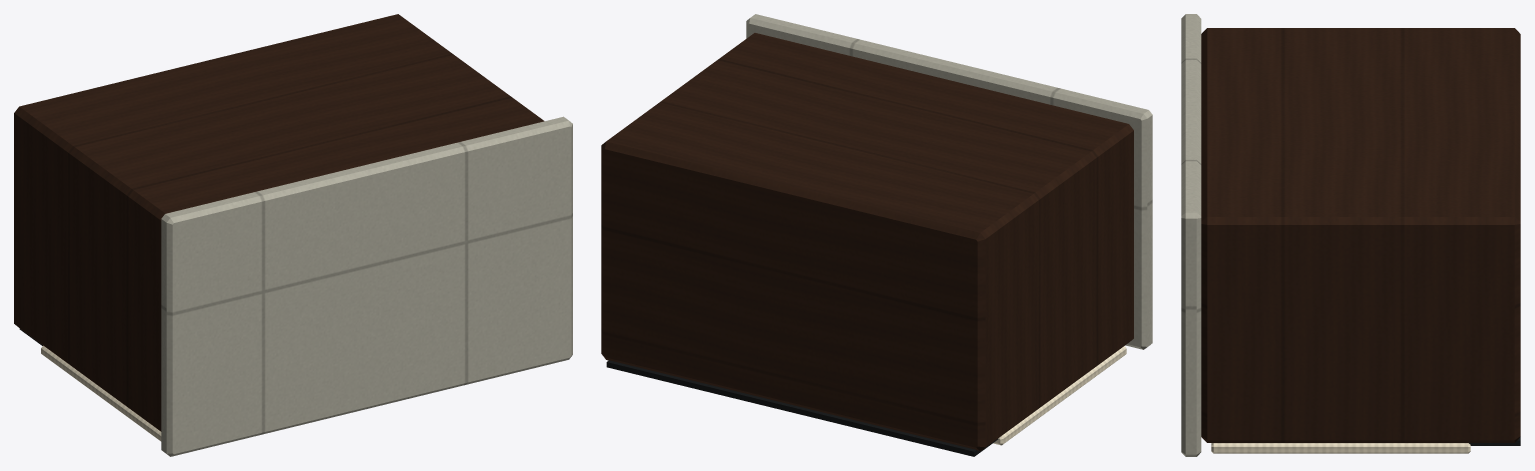
The model's file is master_bath_vanity.obj.
3 renders of one model, left to right at view 1: azimuth 30°, elevation 25°; view 2: azimuth 150°, elevation 25°; view 3: azimuth 270°, elevation 25°, orthographic. The views are drawn at different scales.
Parts seen in each view (by area): view 1: master_bath_vanity_tile, master_bath_vanity_walnut, master_bath_vanity_linen; view 2: master_bath_vanity_walnut, master_bath_vanity_tile, master_bath_vanity_charcoal, master_bath_vanity_linen; view 3: master_bath_vanity_walnut, master_bath_vanity_tile, master_bath_vanity_linen.
Boxes of the visible parts, box(x1,y1,x2,y2) form: master_bath_vanity_tile: box(161, 116, 572, 456); master_bath_vanity_walnut: box(14, 14, 544, 431); master_bath_vanity_linen: box(41, 345, 161, 441); master_bath_vanity_walnut: box(601, 33, 1133, 451); master_bath_vanity_tile: box(746, 14, 1152, 349); master_bath_vanity_charcoal: box(606, 360, 998, 456); master_bath_vanity_linen: box(993, 346, 1126, 445); master_bath_vanity_walnut: box(1201, 28, 1520, 442); master_bath_vanity_tile: box(1181, 14, 1201, 456); master_bath_vanity_linen: box(1211, 443, 1470, 453).
Bounding box in the file's own units: 48 × 28.1 × 34.
5 materials, 5 textured.
